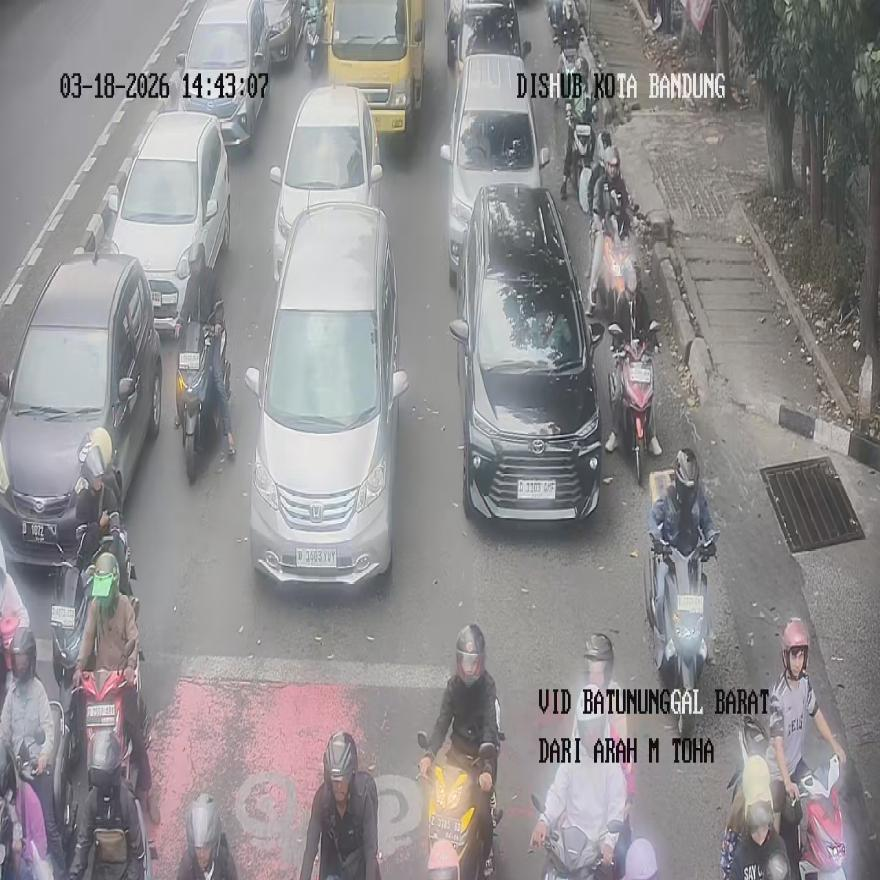Motor: (244, 201, 408, 584), (449, 184, 604, 521), (0, 249, 161, 567), (108, 111, 231, 336), (440, 52, 549, 284), (269, 84, 382, 280), (172, 0, 269, 148), (325, 0, 424, 139)
Truk: (727, 717, 848, 880), (418, 699, 503, 880), (49, 520, 134, 696), (648, 533, 714, 737), (69, 728, 151, 879), (70, 648, 142, 814), (176, 308, 231, 483), (608, 322, 658, 486), (532, 794, 622, 880), (589, 214, 633, 337), (178, 792, 238, 879), (563, 102, 595, 212), (264, 0, 295, 62), (304, 3, 322, 74)
